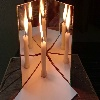fire: (38, 11, 45, 44)
